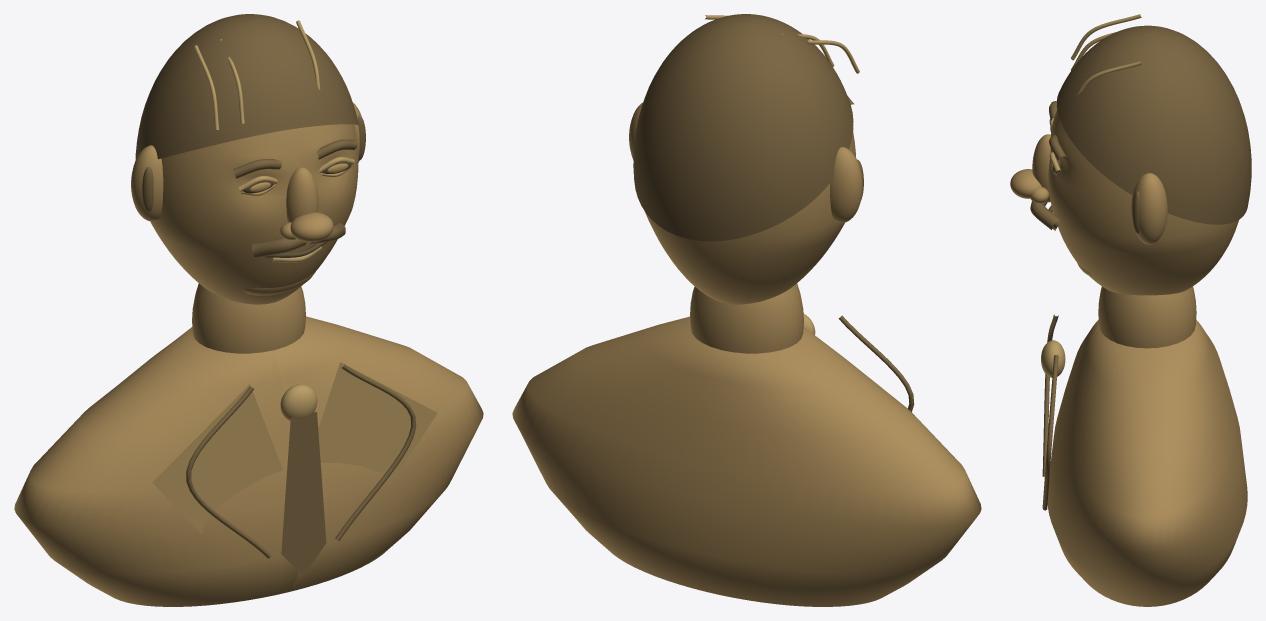
The model's file is venceslau.glb.
3 renders of one model, left to right at view 1: azimuth 30°, elevation 25°; view 2: azimuth 150°, elevation 25°; view 3: azimuth 270°, elevation 25°, orthographic. The views are drawn at different scales.
Visible parts, largest first — view 1: venceslau; view 2: venceslau; view 3: venceslau.
Part boxes in pixels (x1,y1,x2,y2): venceslau: (14,14,483,606); venceslau: (512,14,981,606); venceslau: (1010,14,1251,606).
Bounding box in the file's own units: 1.22 × 1.37 × 0.5897.
